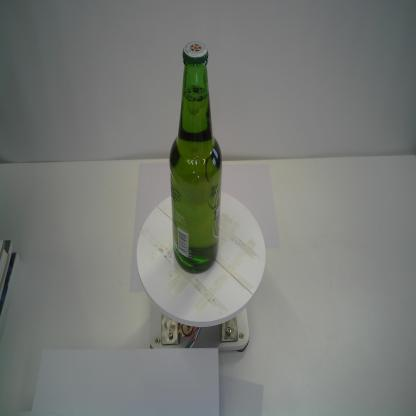Alcohol: (169, 39, 223, 275)
